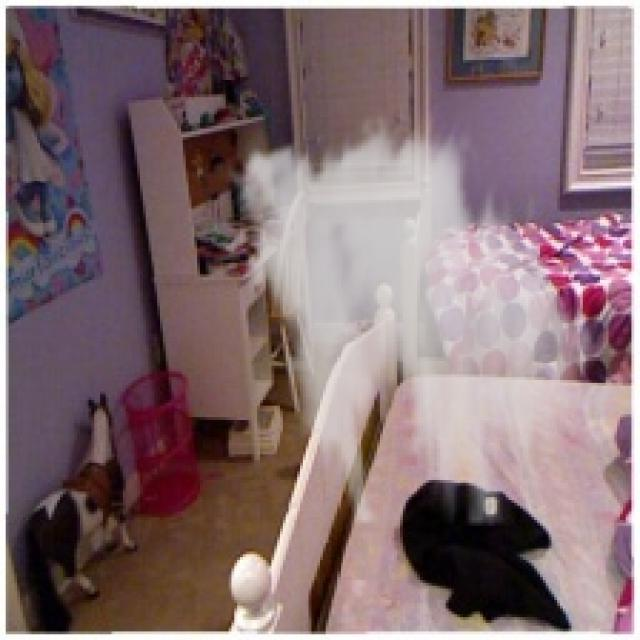smoke: (217, 111, 606, 526)
